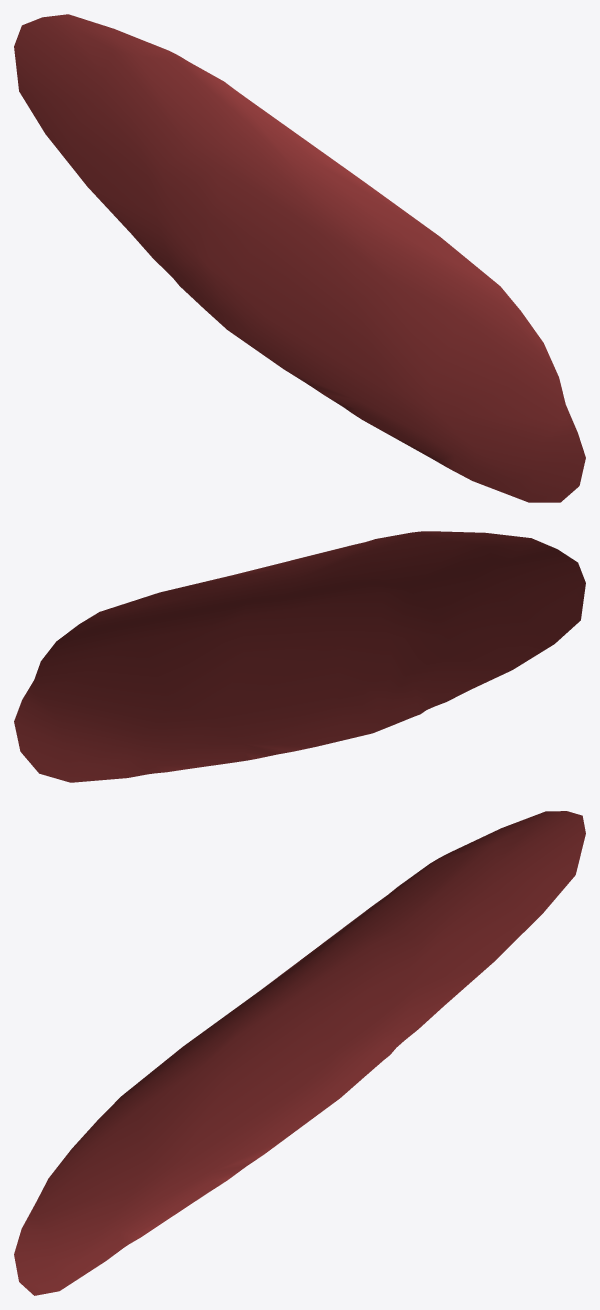
Rendered from pectoralis-minor-muscle-e1r.glb.
3 views of the same model, one above another, from view 1: azimuth 30°, elevation 25°; view 2: azimuth 210°, elevation 25°; view 3: azimuth 270°, elevation 25° (orthographic).
Parts seen in each view (by area): view 1: Pectoralis minor muscle.e1r; view 2: Pectoralis minor muscle.e1r; view 3: Pectoralis minor muscle.e1r.
Boxes of the visible parts, x1,y1,x2,y2 form: Pectoralis minor muscle.e1r: (14, 14, 585, 502); Pectoralis minor muscle.e1r: (14, 531, 585, 782); Pectoralis minor muscle.e1r: (14, 811, 585, 1295).
Bounding box in the file's own units: 0.0231 × 0.028 × 0.0392.
